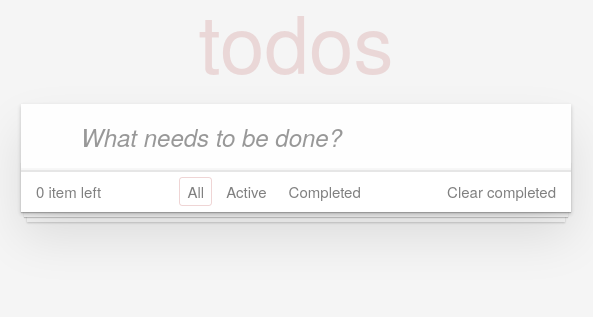
App Component › allows user to add a new todo
Type "New Task" into the field with placeholder "What needs to be done?" at point(296, 137), box [21, 104, 571, 170]
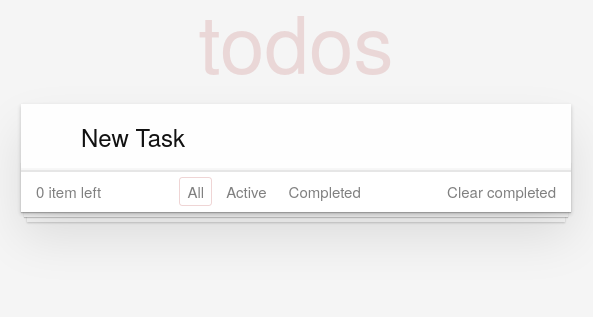
Press Enter in the field with placeholder "What needs to be done?", box [21, 104, 571, 170]
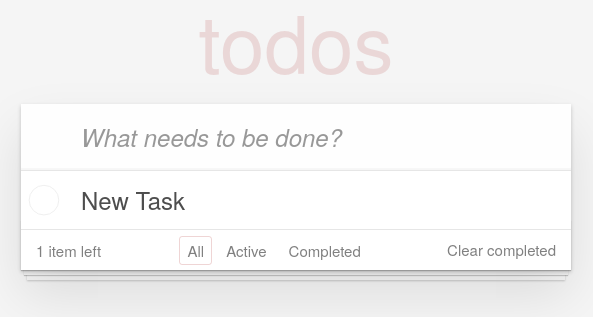
Check: the text "New Task" is shown, box [81, 186, 185, 214]
